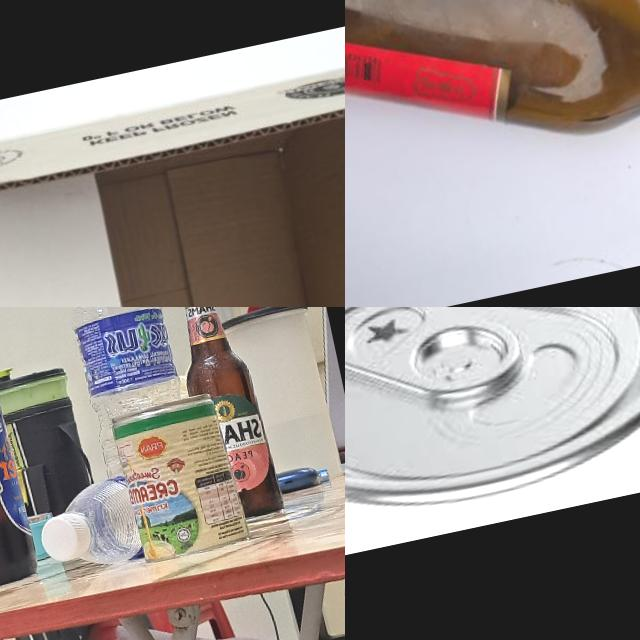aba de lata: (345, 307, 532, 434)
garrafa de vidro: (345, 0, 640, 255), (164, 307, 281, 523)
garrafa plástica: (57, 307, 208, 534), (29, 470, 144, 580)
lata: (111, 388, 245, 562)
papelão: (0, 45, 345, 307)
tampa plástica: (34, 505, 96, 566)
